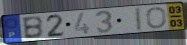2: (45, 13, 65, 38)
3: (95, 10, 115, 35)
4: (73, 11, 91, 35)
B: (21, 15, 45, 40)
I: (136, 6, 145, 32)
O: (146, 6, 168, 29)
